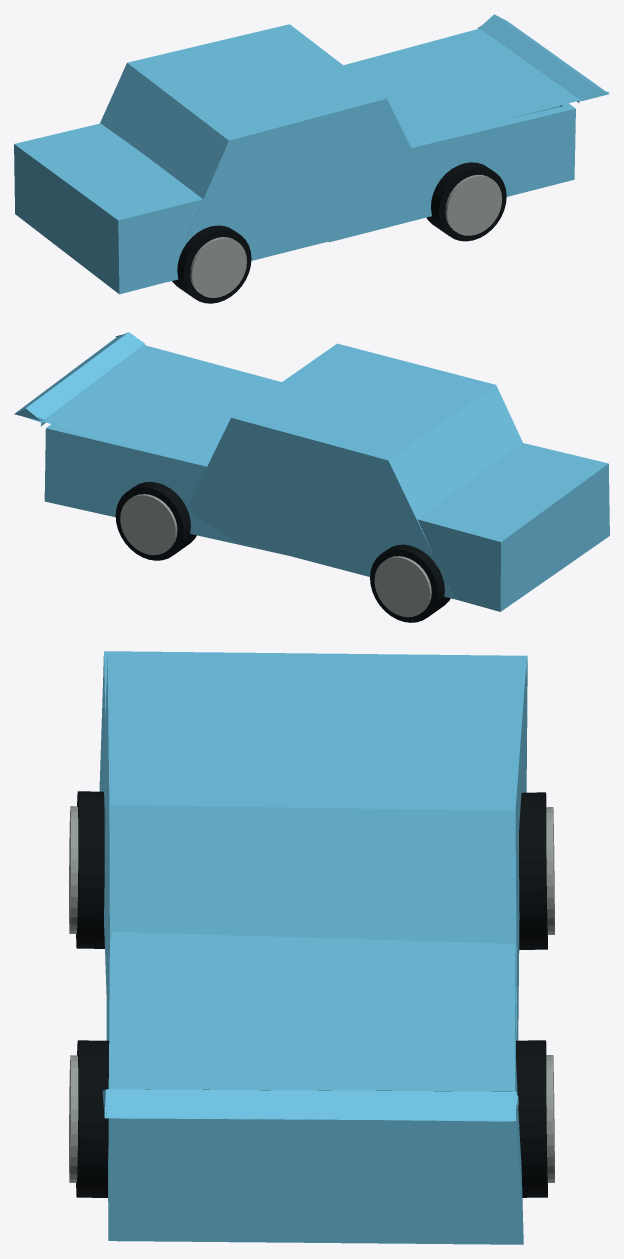
3 views of the same model, one above another, from view 1: azimuth 30°, elevation 25°; view 2: azimuth 150°, elevation 25°; view 3: azimuth 270°, elevation 25° (orthographic). The views are drawn at different scales.
Parts seen in each view (by area): view 1: carro, capo, Cube.001, Cylinder.007, Cylinder.006, Cylinder.005, Cylinder.008; view 2: carro, capo, Cube.001, Cylinder.004, Cylinder.002, Cylinder.003, Cylinder.001; view 3: carro, capo, Cube.001, Cylinder.005, Cylinder.003, Cylinder.001, Cylinder.008, Cylinder.006, Cylinder.007, Cylinder.002, Cylinder.004.
Boxes of the visible parts, <box> form: carro: <box>14,24,575,294</box>; capo: <box>344,24,609,144</box>; Cube.001: <box>479,14,609,100</box>; Cylinder.007: <box>190,237,246,297</box>; Cylinder.006: <box>445,174,501,235</box>; Cylinder.005: <box>426,162,506,241</box>; Cylinder.008: <box>172,225,251,303</box>; carro: <box>44,343,609,611</box>; capo: <box>22,334,281,466</box>; Cube.001: <box>14,332,144,420</box>; Cylinder.004: <box>374,556,431,617</box>; Cylinder.002: <box>120,494,177,555</box>; Cylinder.003: <box>115,482,196,560</box>; Cylinder.001: <box>370,544,450,622</box>; carro: <box>99,651,527,1244</box>; capo: <box>106,932,518,1121</box>; Cube.001: <box>102,1089,516,1120</box>; Cylinder.005: <box>76,1040,109,1197</box>; Cylinder.003: <box>516,1040,547,1197</box>; Cylinder.001: <box>519,792,547,949</box>; Cylinder.008: <box>76,791,104,948</box>; Cylinder.006: <box>69,1055,78,1182</box>; Cylinder.007: <box>69,806,78,933</box>; Cylinder.002: <box>546,1055,554,1182</box>; Cylinder.004: <box>546,807,554,934</box>.
Size of the model in its own units: 867 by 261 by 371.
